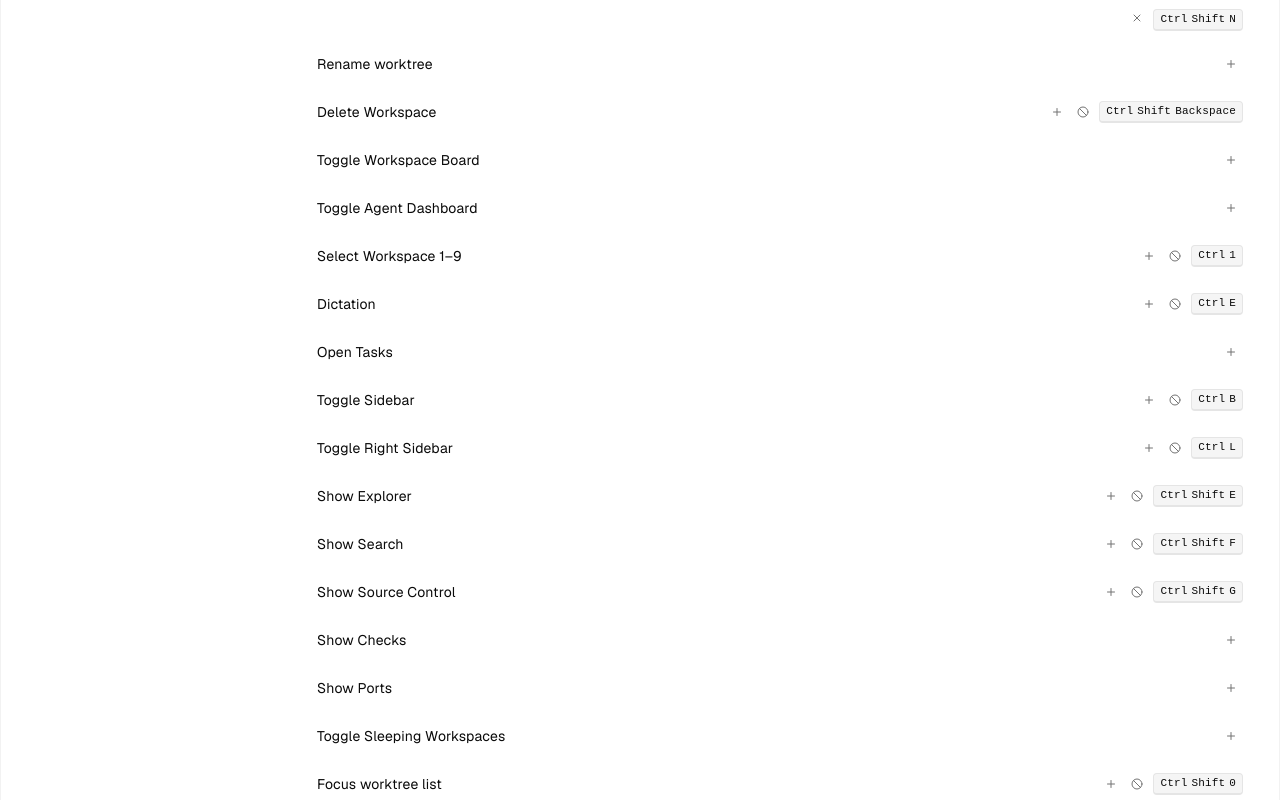
Test: per-row Disable control (#244) › a default chord disabled then enabled drops the override
(page scrolled)
Click the button named "Disable Toggle Sidebar". click: (1175, 400)
box: [1163,388,1187,412]
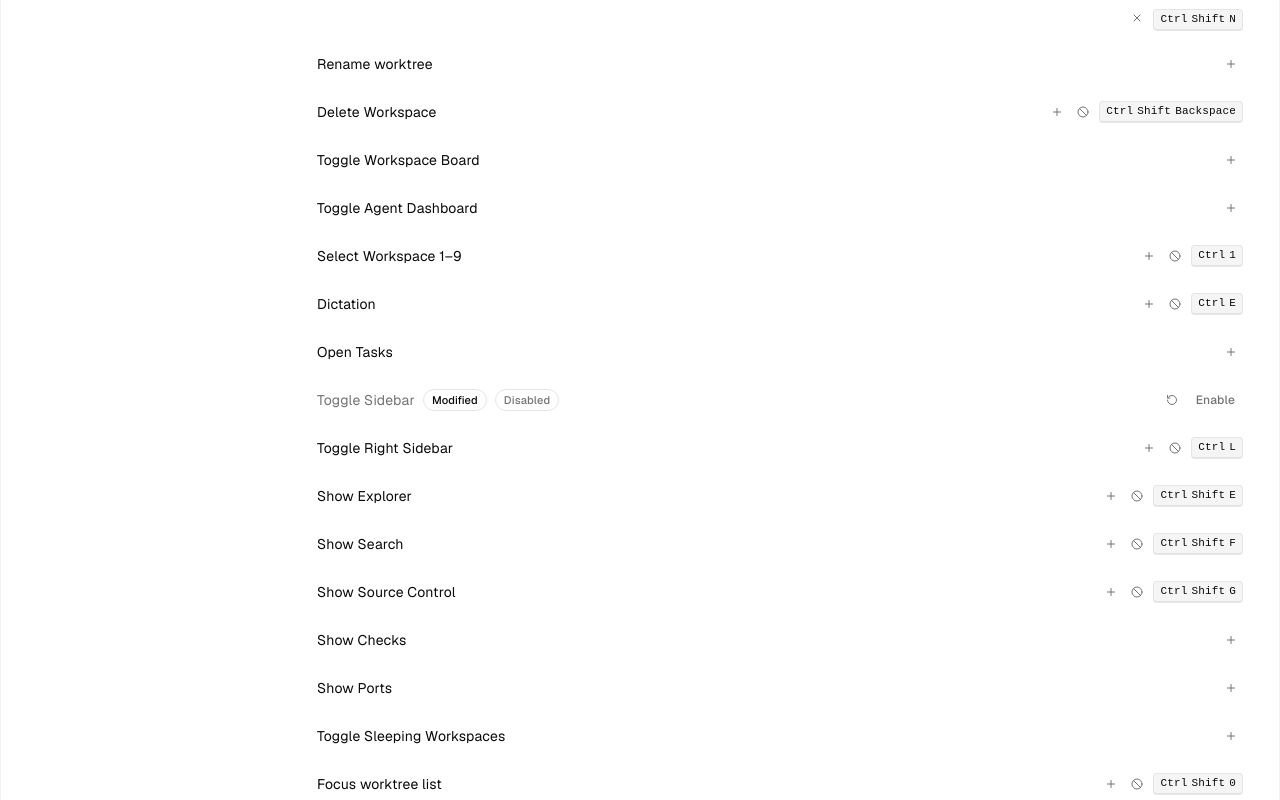
Click the button with aria-label "Enable Toggle Sidebar". click: (1215, 400)
box: [1188,388,1243,412]
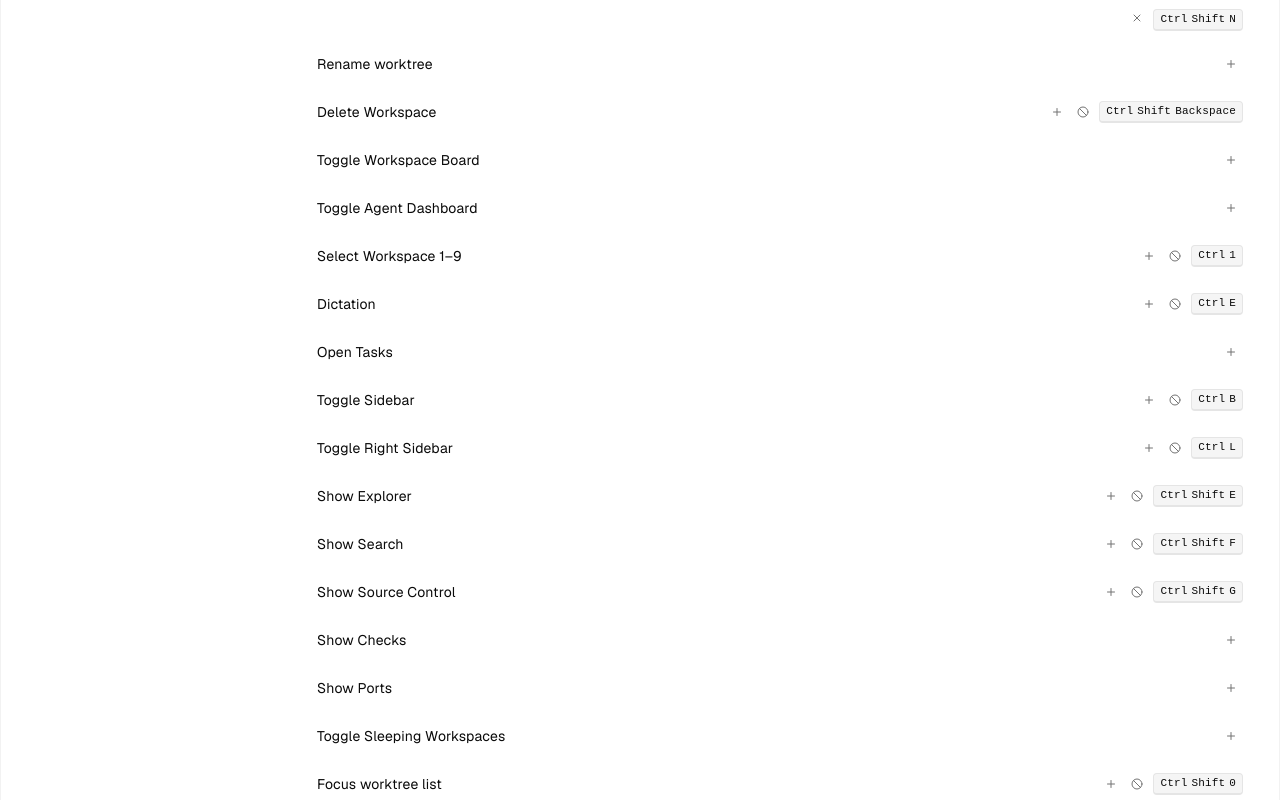
Result: the button with aria-label "Change shortcut for Toggle Sidebar, currently Ctrl+B." is shown at [1191,389,1243,411]
